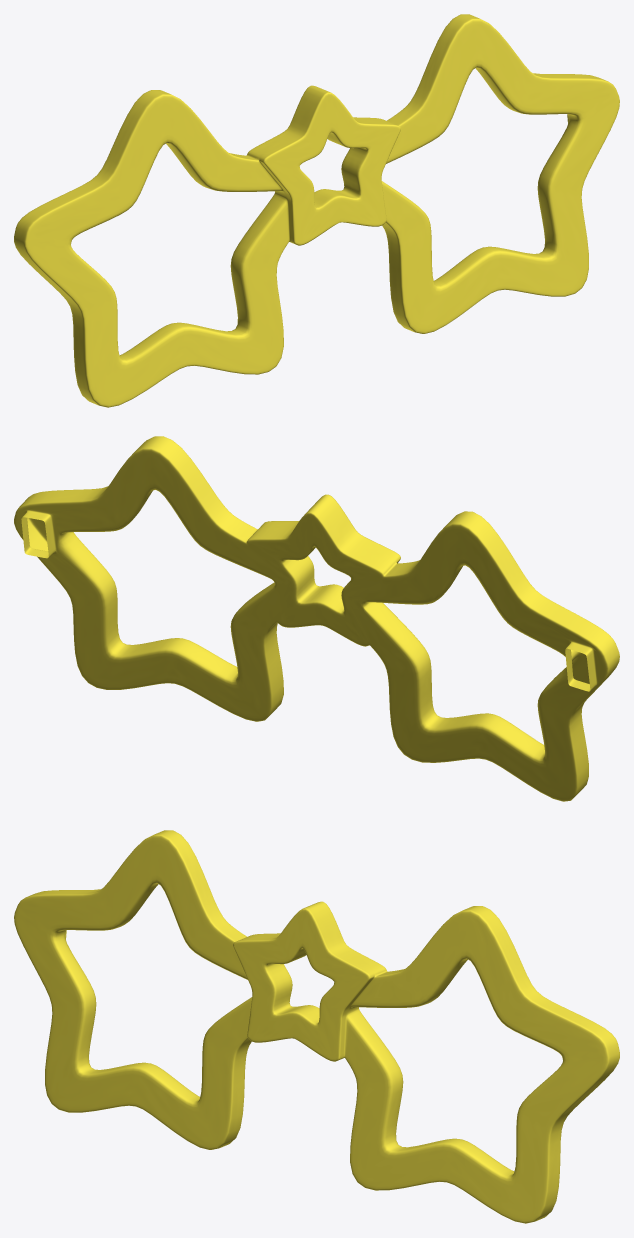
Rendered from glasses_B.fbx.
The picture shows the model from 3 angles, top to bottom: view 1: azimuth 30°, elevation 25°; view 2: azimuth 150°, elevation 25°; view 3: azimuth 330°, elevation 25°; orthographic projection.
Parts seen in each view (by area): view 1: 眼鏡B.001; view 2: 眼鏡B.001; view 3: 眼鏡B.001.
Part boxes in pixels (x1=…): 眼鏡B.001: x1=14, y1=14, x2=619, y2=407; 眼鏡B.001: x1=14, y1=436, x2=619, y2=801; 眼鏡B.001: x1=14, y1=830, x2=619, y2=1223.
Size of the model in its own units: 128878 by 57939 by 16051.
